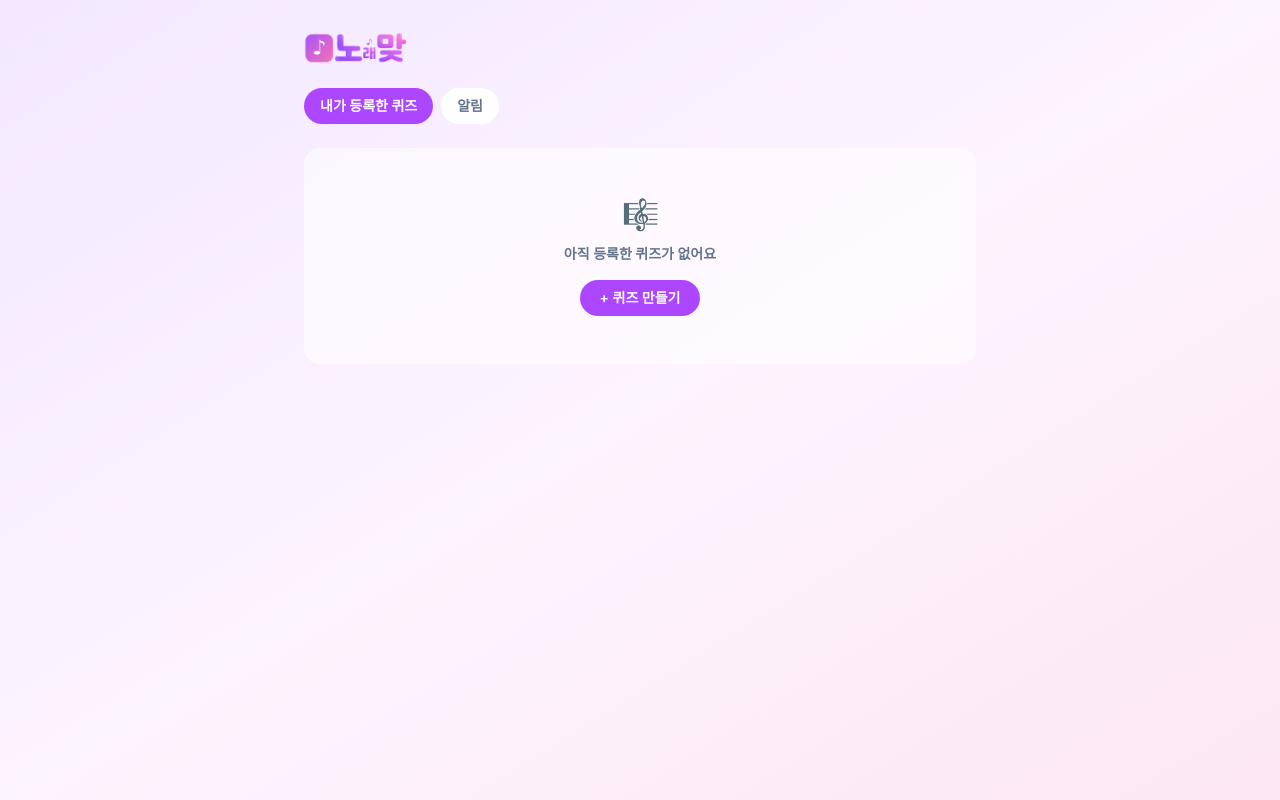
Test: MyPage › 알림 탭을 누르면 알림 목록을 보여준다
Expected: the text "아직 등록한 퀴즈가 없어요" is shown, 564,244 -> 716,264
Step 1. Click the button "알림" → (470, 106), box 441,88 -> 499,124
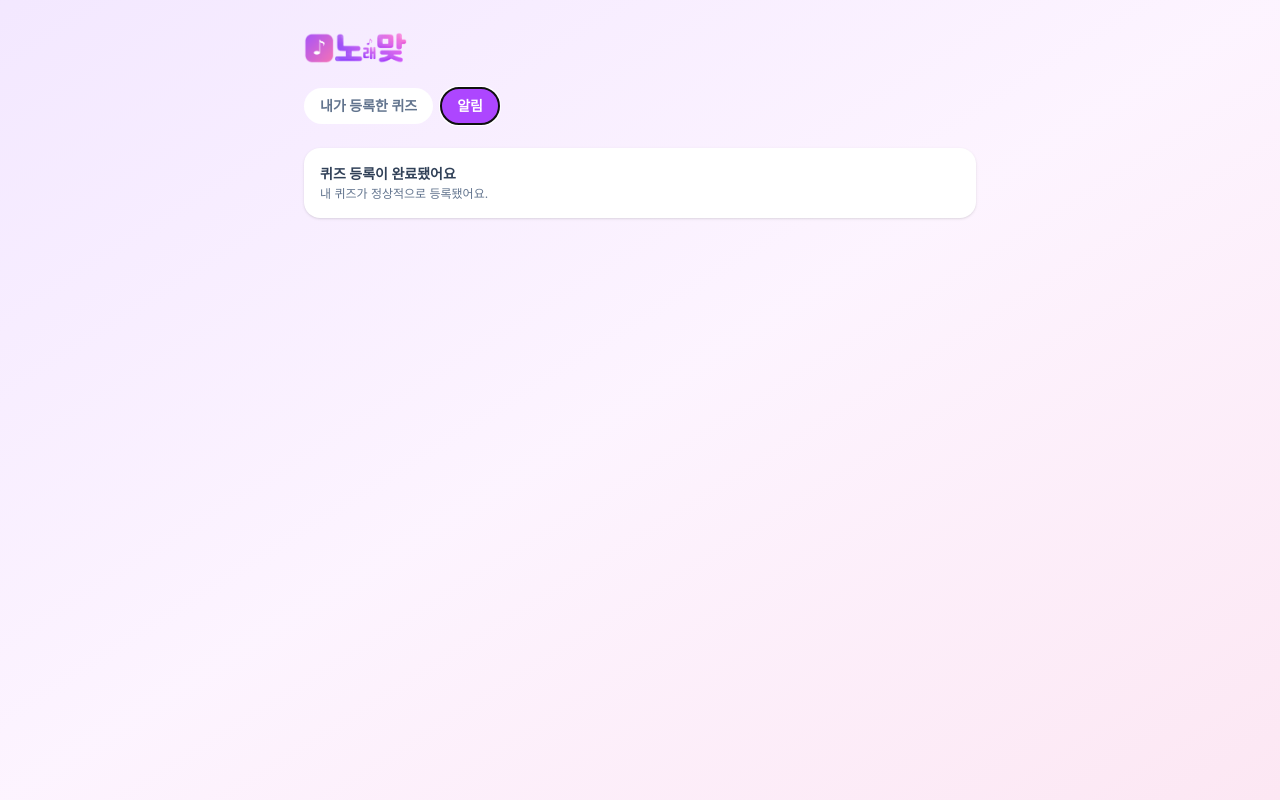
Expected: the text "퀴즈 등록이 완료됐어요" is shown, 320,164 -> 456,184
